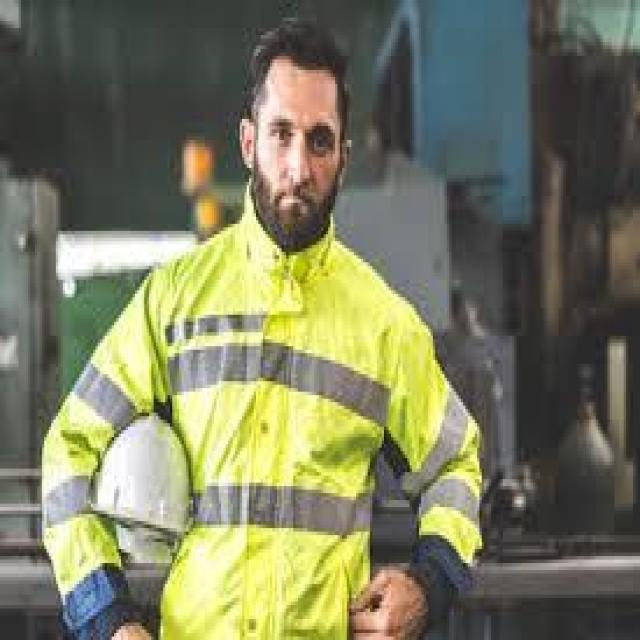safety_helmet: (45, 209, 483, 640)
